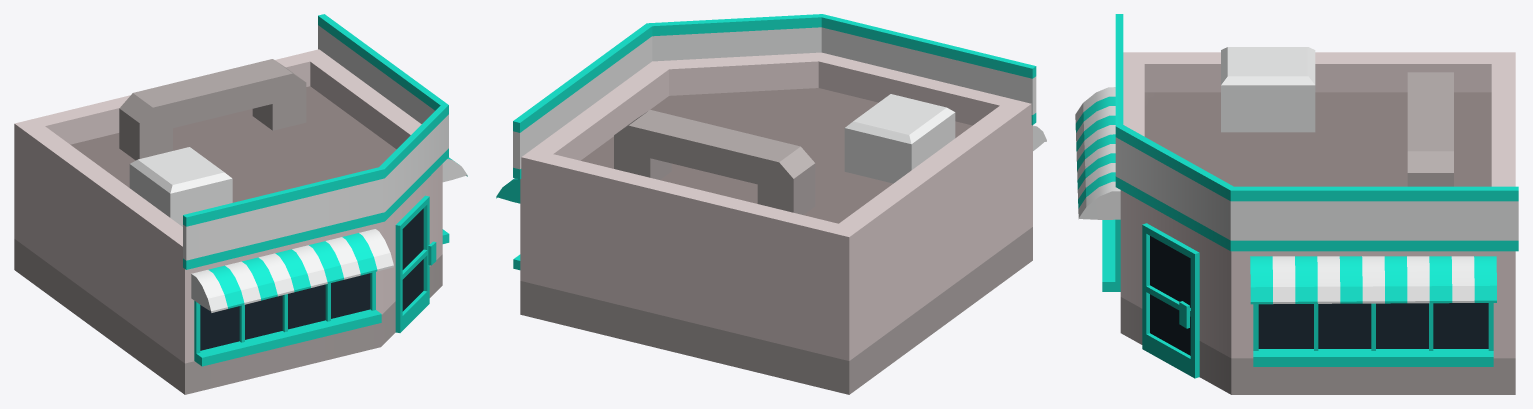
The model's file is Shop01.fbx.
3 views of the same model, side by side, from view 1: azimuth 30°, elevation 25°; view 2: azimuth 150°, elevation 25°; view 3: azimuth 270°, elevation 25° (orthographic). The views are drawn at different scales.
Visible parts, largest first — view 1: Market01; view 2: Market01; view 3: Market01.
Boxes of the visible parts, x1=… form: Market01: x1=14, y1=14, x2=467, y2=394; Market01: x1=496, y1=14, x2=1046, y2=394; Market01: x1=1075, y1=14, x2=1518, y2=394.
Bounding box in the file's own units: 200 × 195 × 101.
